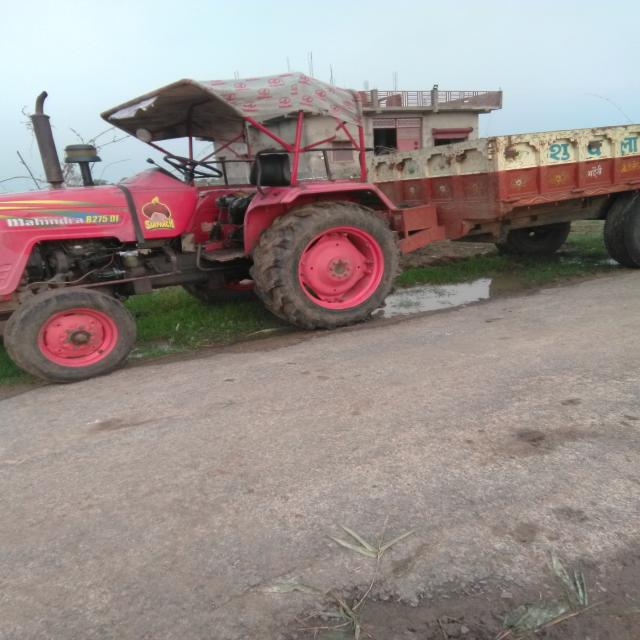tractor: (0, 50, 636, 425)
